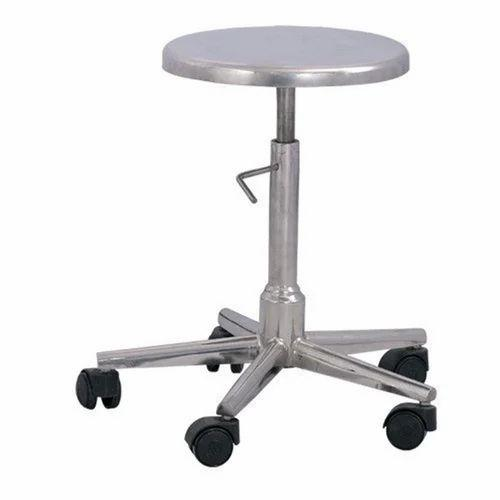stool: (75, 24, 438, 467)
